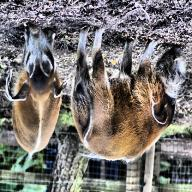boar: (67, 22, 190, 162), (4, 22, 67, 163)
